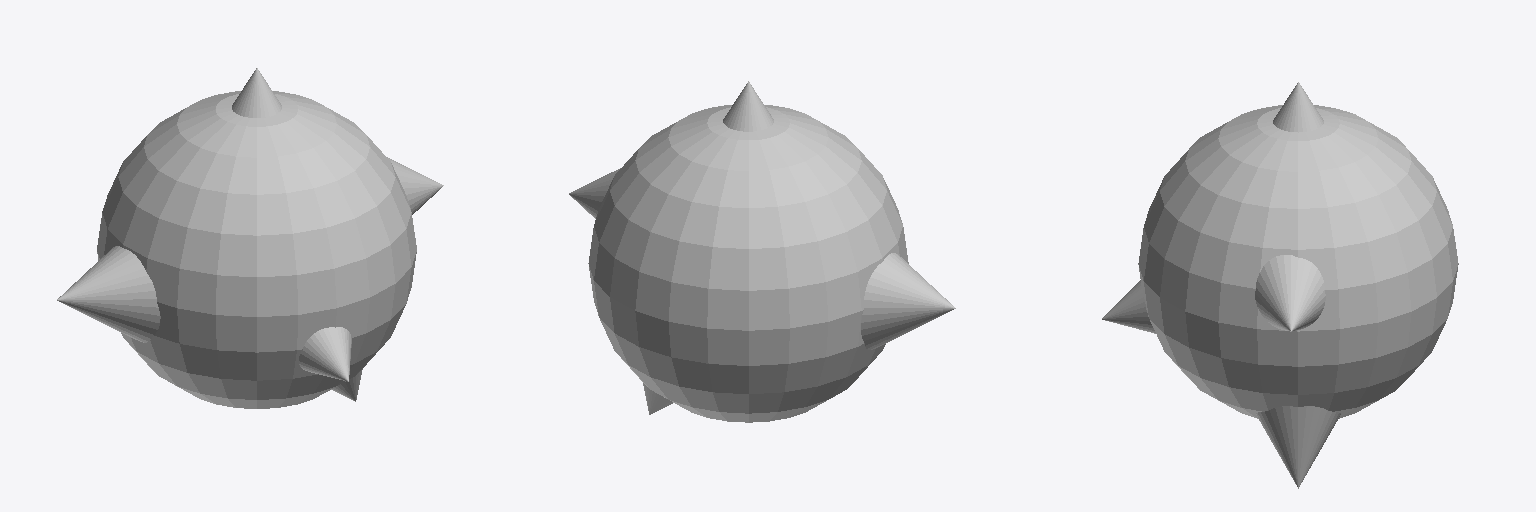
The model's file is ball.obj.
The picture shows the model from 3 angles: view 1: azimuth 30°, elevation 25°; view 2: azimuth 150°, elevation 25°; view 3: azimuth 270°, elevation 25°; orthographic projection.
Visible parts, largest first — view 1: Cone.5; view 2: Cone.5; view 3: Cone.5.
Part boxes in pixels (bbox=[...]): Cone.5: bbox=[57, 68, 443, 408]; Cone.5: bbox=[569, 81, 955, 422]; Cone.5: bbox=[1102, 82, 1458, 488].
Size of the model in its own units: 280 by 247 by 223.